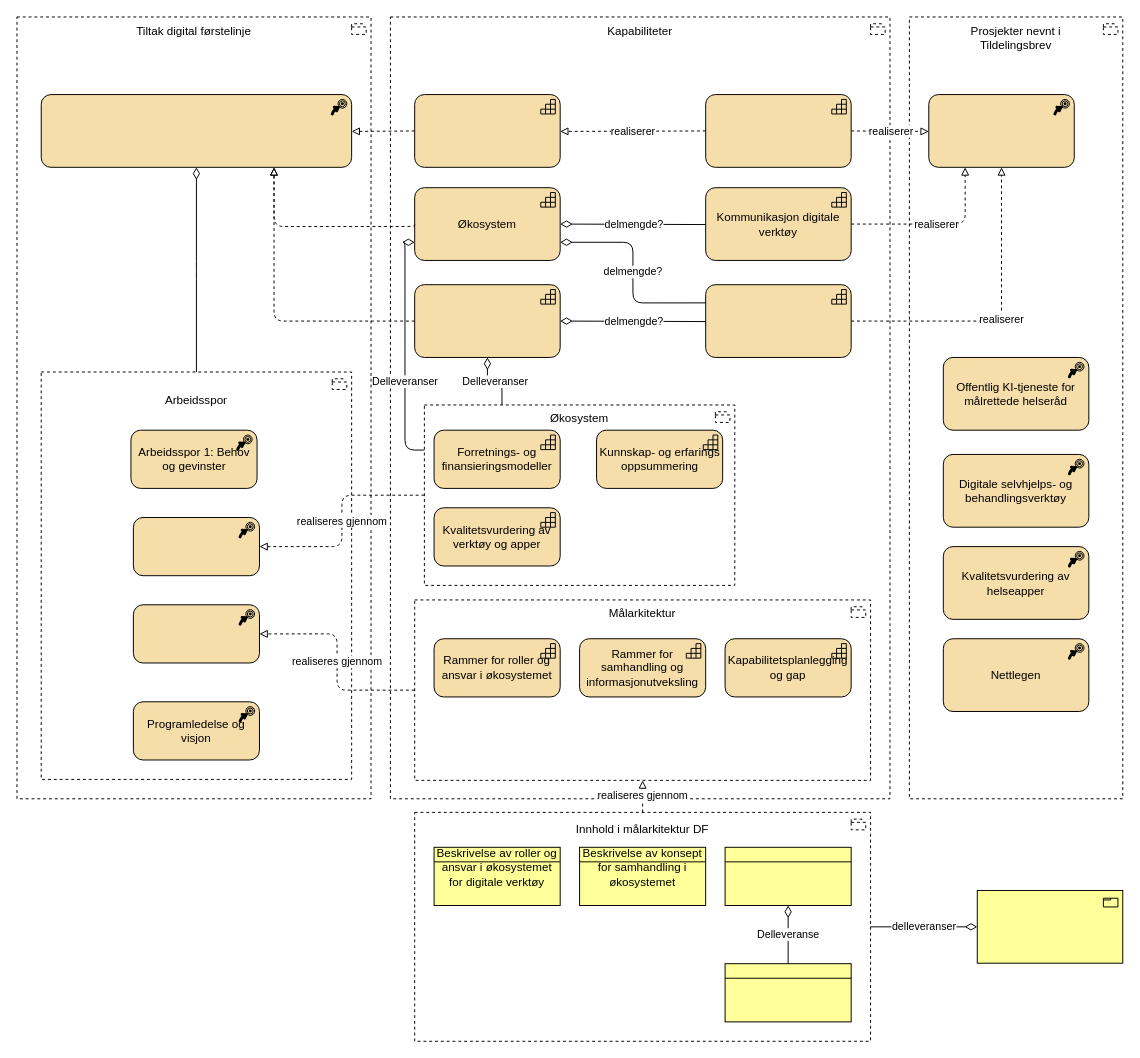
The diagram is 1140 pixels wide and 1058 high, and some of its shapes have lost their labels. The centre of each missing label's shape, as x and y in pixels:
"Anskaffelsesstrategi – selvhjelpsverktøy" goes at (778,320).
"Arbeidsspor 3: Arkitektur" goes at (195,633).
"Arbeidssport 2: Økosystem" goes at (195,546).
"Digital veiviser inn til helsetjenestene" goes at (487,130).
"Digitale løsninger for psykisk helse/rus" goes at (1001,130).
"Digitale selvhjelps og behandlingsverktøy" goes at (487,320).
"Gap analyse" goes at (787,875).
"Kapabilitetskart (behov)" goes at (787,992).
"Nasjonal veiviser konsept 12c" goes at (778,130).
"Produkt: Målarkitektur digital førstelinje" goes at (1049,926).
"Satsing Digital Førstelinje" goes at (196,130).
